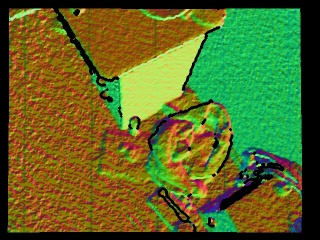station: (147, 187, 189, 230)
